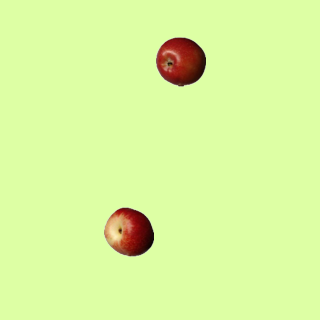Apple Braeburn: (155, 36, 205, 86)
Nectarine: (103, 206, 153, 256)
